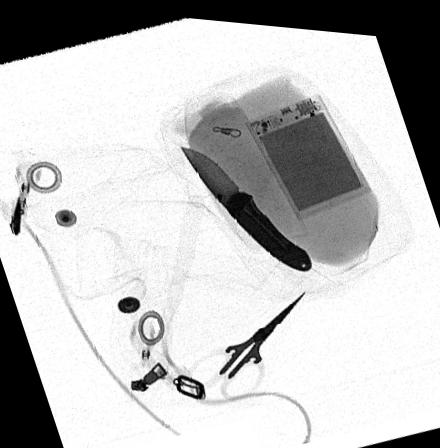Knife: (178, 142, 308, 266)
Powerbank: (245, 83, 373, 215)
Scissors: (186, 283, 309, 398)
